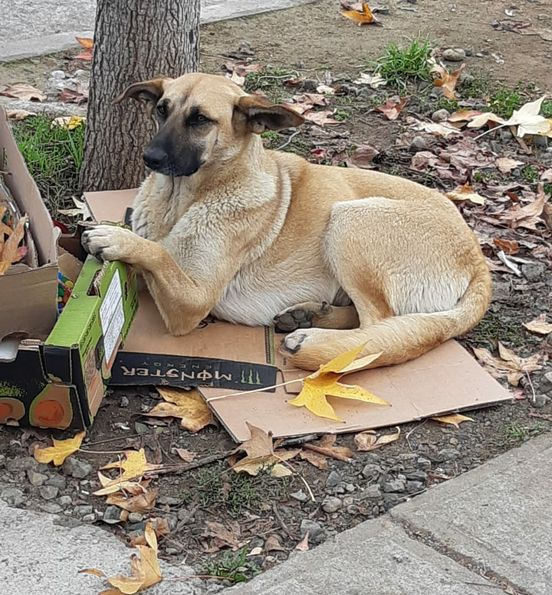dog: (60, 63, 506, 387)
